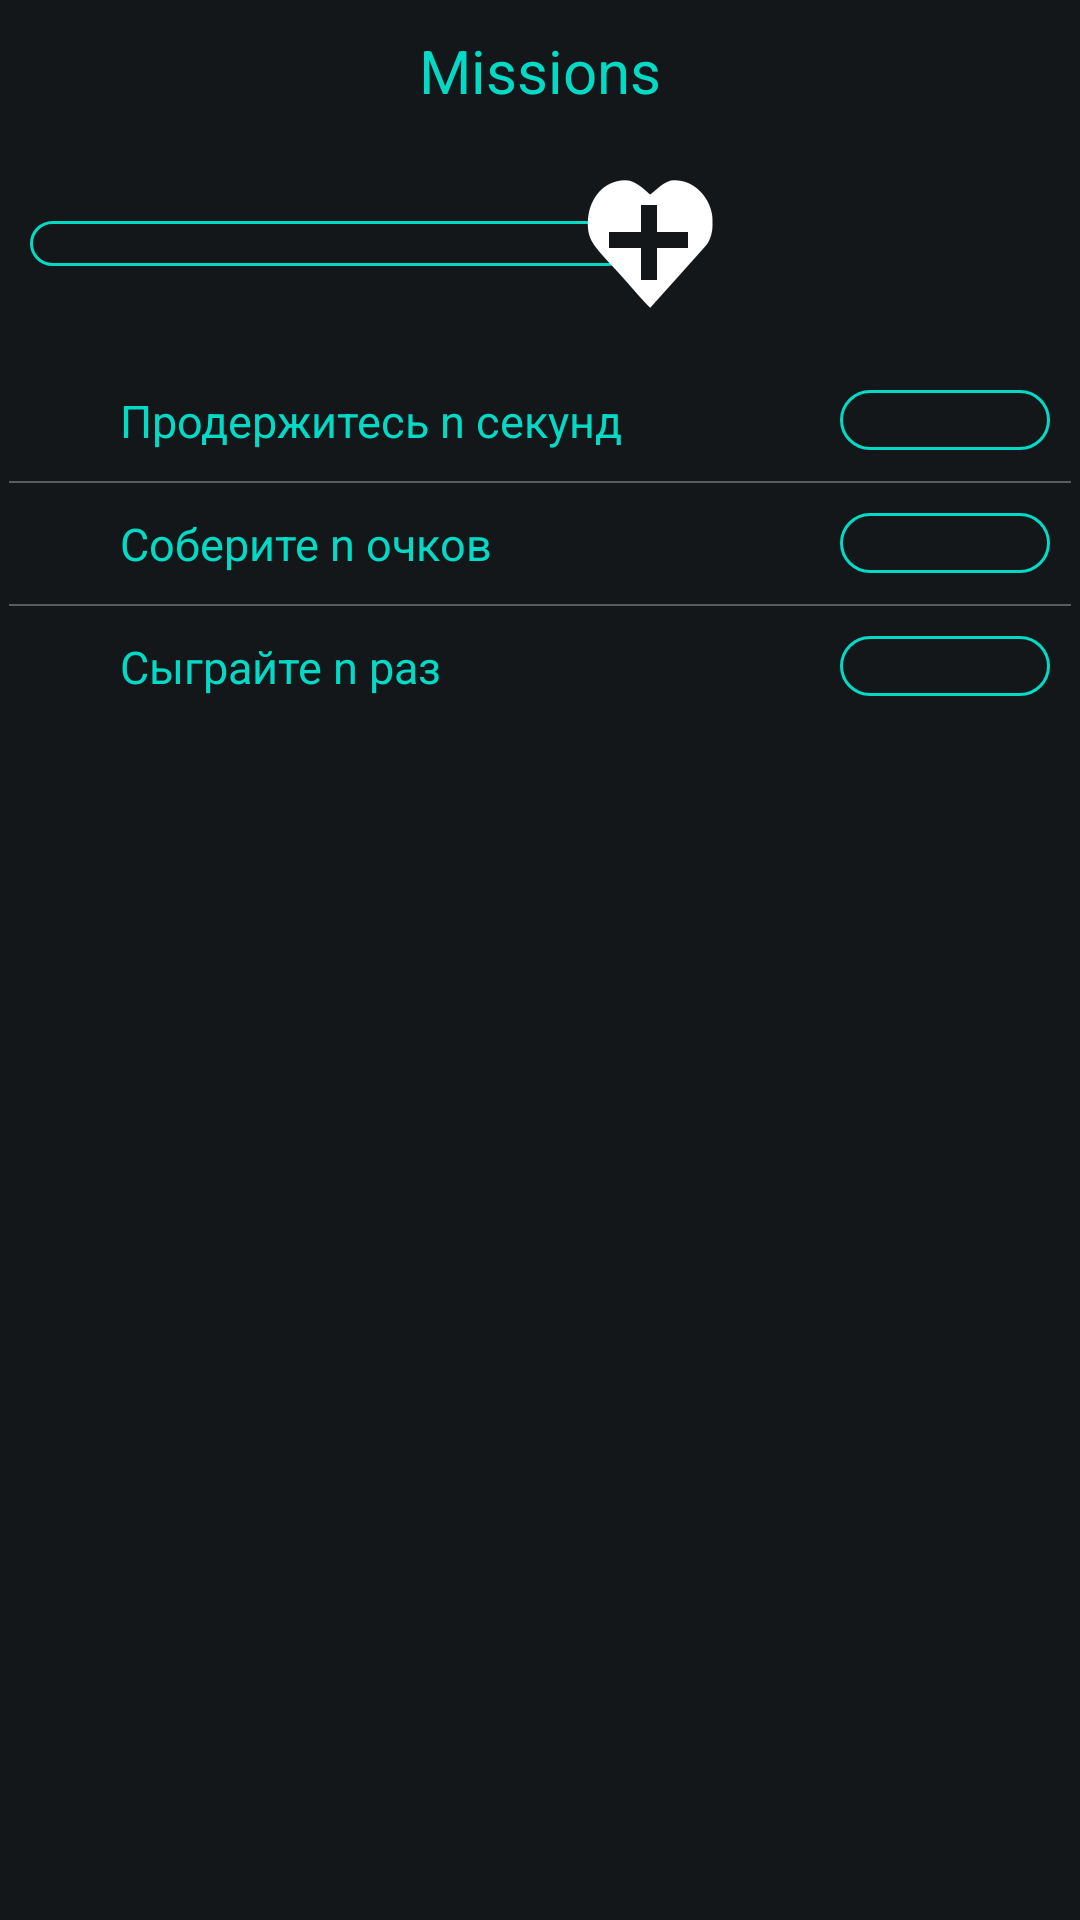

Icon click points for this 1080px×1920px phone screenshot, format (x,y):
heart: (649,244)
